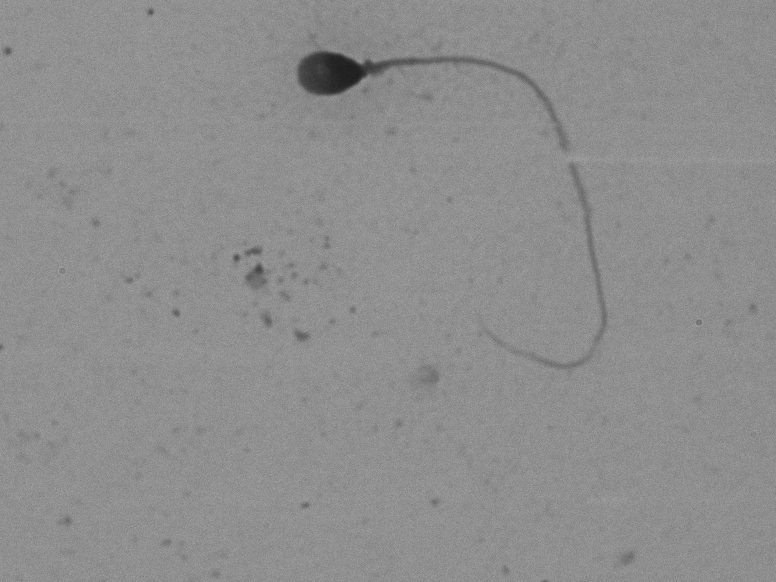Normal: (277, 30, 638, 376)
